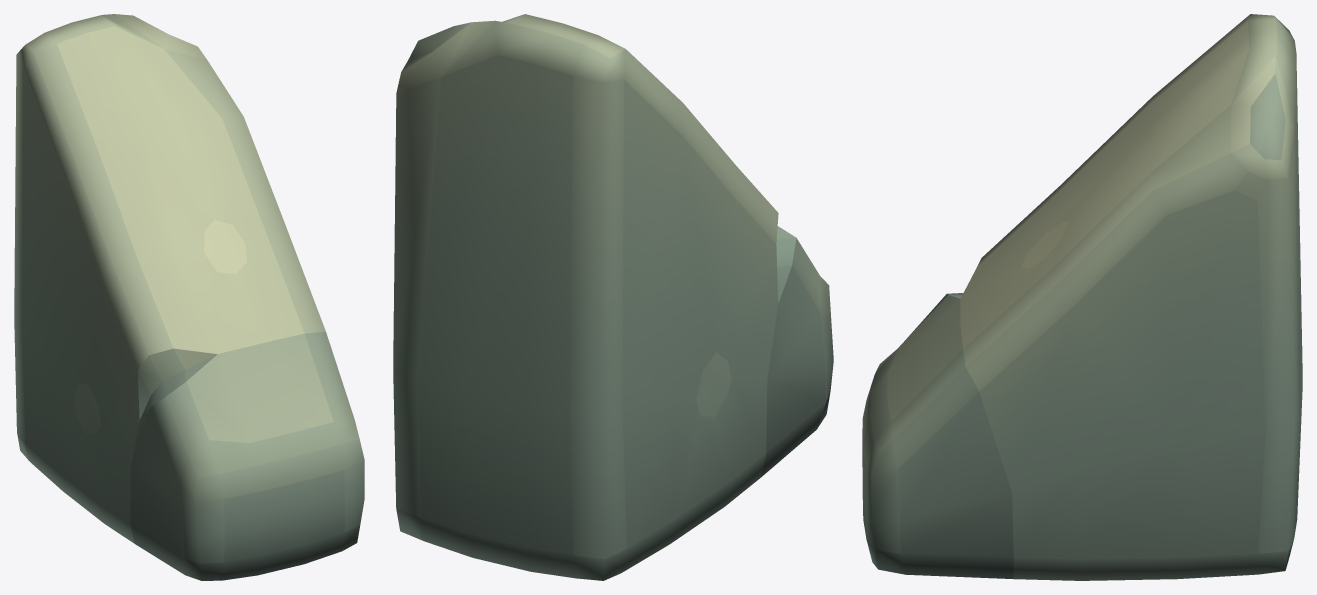
Rendered from block_rail1_LOD_group.fbx.
3 renders of one model, left to right at view 1: azimuth 30°, elevation 25°; view 2: azimuth 150°, elevation 25°; view 3: azimuth 270°, elevation 25°, orthographic. The views are drawn at different scales.
Visible parts, largest first — view 1: block_rail1_LOD0; view 2: block_rail1_LOD0; view 3: block_rail1_LOD0.
Boxes of the visible parts, left/top/right/bottom form: block_rail1_LOD0: left=14, top=14, right=364, bottom=580; block_rail1_LOD0: left=393, top=14, right=833, bottom=580; block_rail1_LOD0: left=862, top=14, right=1302, bottom=580.
Size of what is drawn, in the model's own units: 58.12 by 132 by 107.
Materials: 1 (1 with a texture image).
